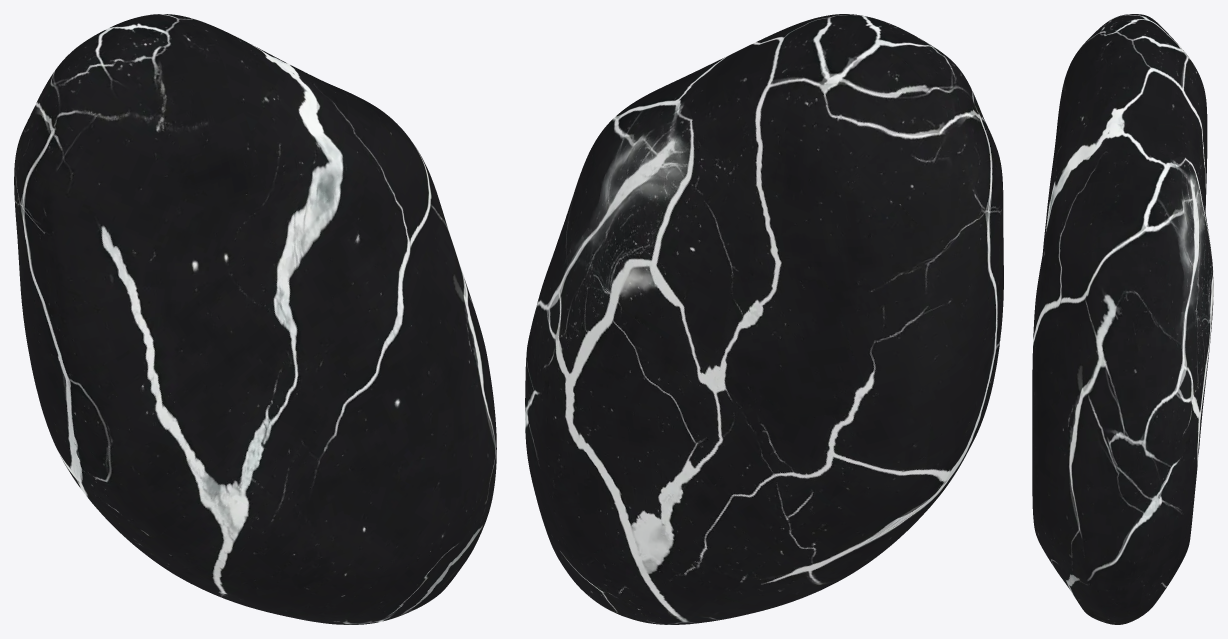
File: stone-polished.glb
The picture shows the model from 3 angles, left to right: view 1: azimuth 30°, elevation 25°; view 2: azimuth 150°, elevation 25°; view 3: azimuth 270°, elevation 25°; orthographic projection. The views are drawn at different scales.
Size of the model in its own units: 1.4 by 1.9 by 0.6176.
1 material, 1 textured.
